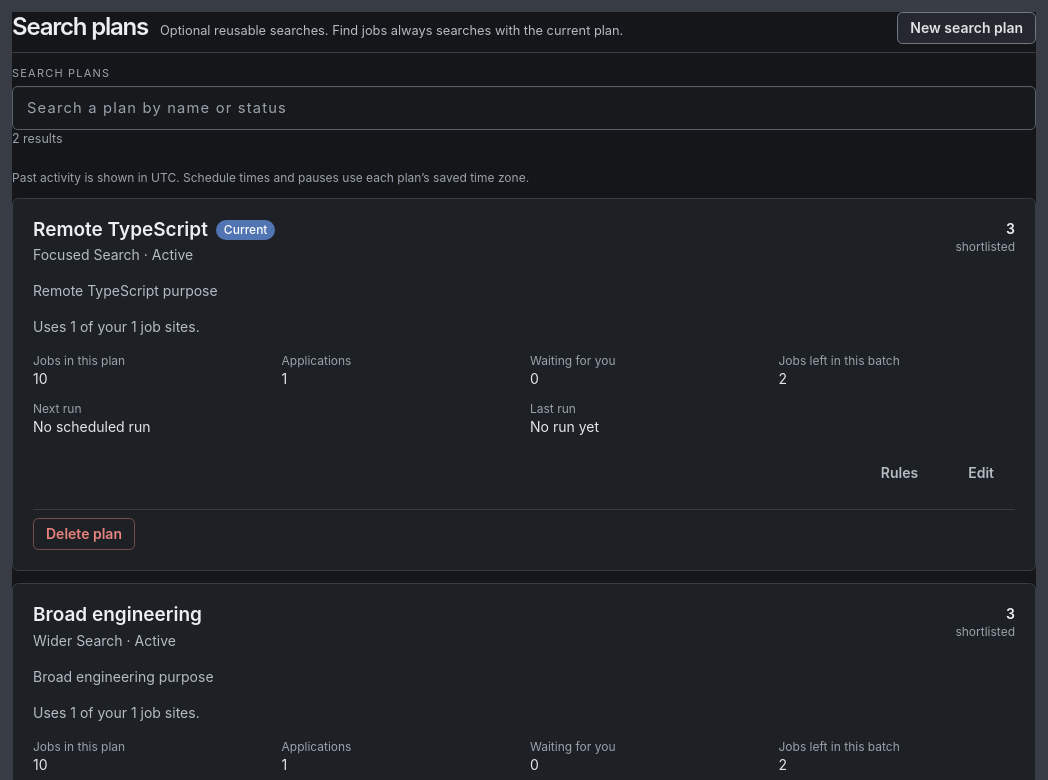
Scenario: CampaignsScreen › explains automatic handoff when deleting the current plan with alternatives
Click the button "Delete plan": (84, 534) [33,518,135,550]
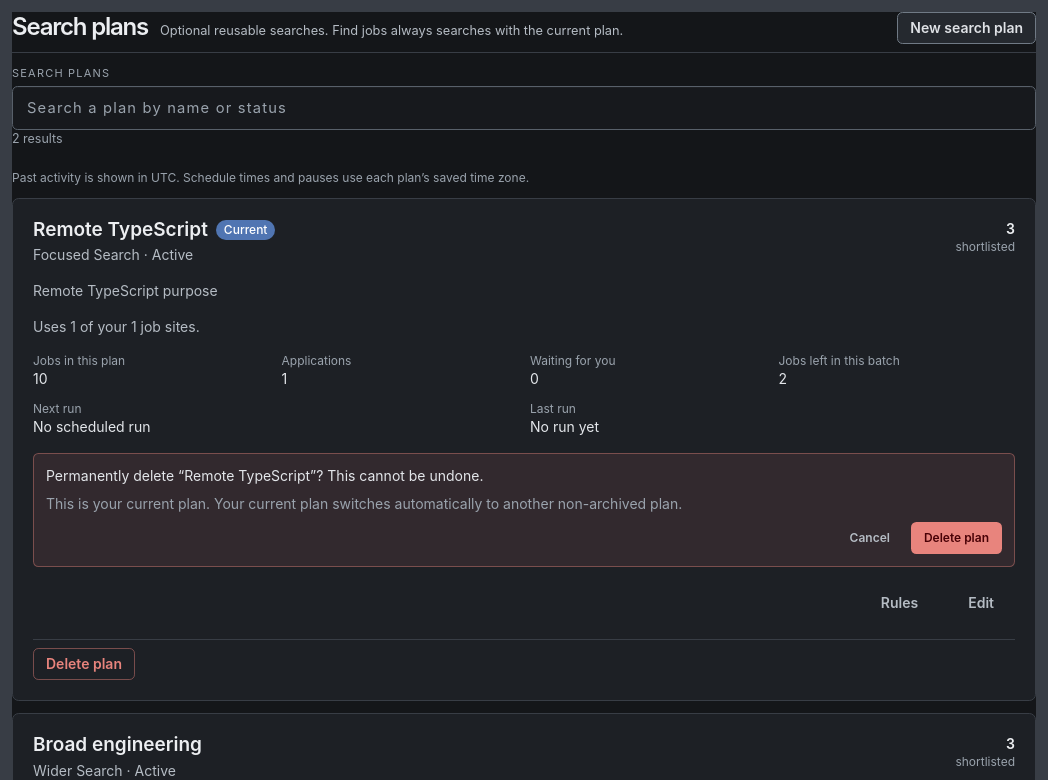
Result: the text "switches automatically to another non-archived plan" is shown at [46,495,682,512]
